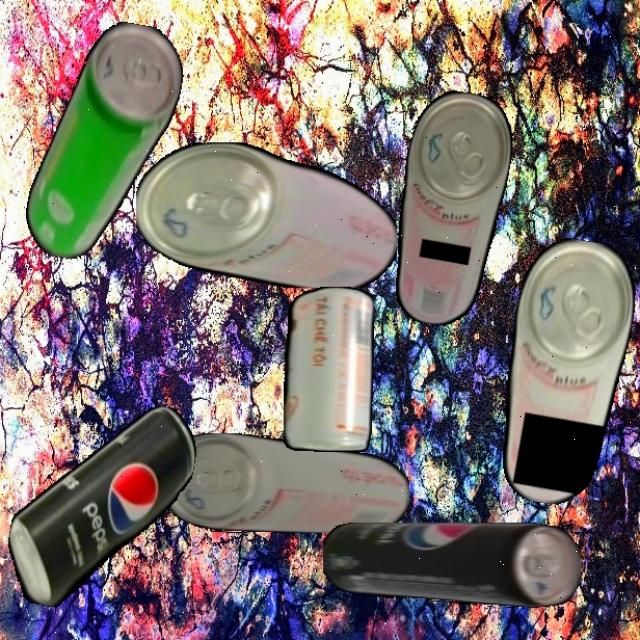debris: (0, 384, 203, 626), (20, 11, 190, 272), (484, 232, 640, 512), (136, 141, 397, 288), (379, 85, 521, 333), (162, 432, 409, 533), (322, 522, 581, 608), (283, 287, 374, 452)
